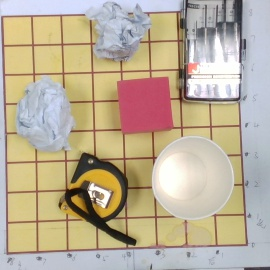cup: (151, 137, 235, 222)
